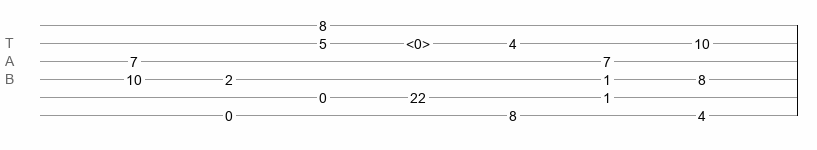0: (225, 108, 233, 118), (319, 90, 327, 100)
1: (603, 72, 611, 82), (603, 90, 611, 100)
10: (126, 72, 142, 82), (694, 36, 710, 46)
2: (225, 72, 233, 82)
22: (410, 90, 426, 100)
4: (509, 36, 517, 46), (698, 108, 706, 118)
5: (319, 36, 327, 46)
7: (130, 54, 138, 64), (603, 54, 611, 64)
8: (319, 18, 327, 28), (509, 108, 517, 118), (698, 72, 706, 82)
harmonic: (406, 36, 430, 46)
